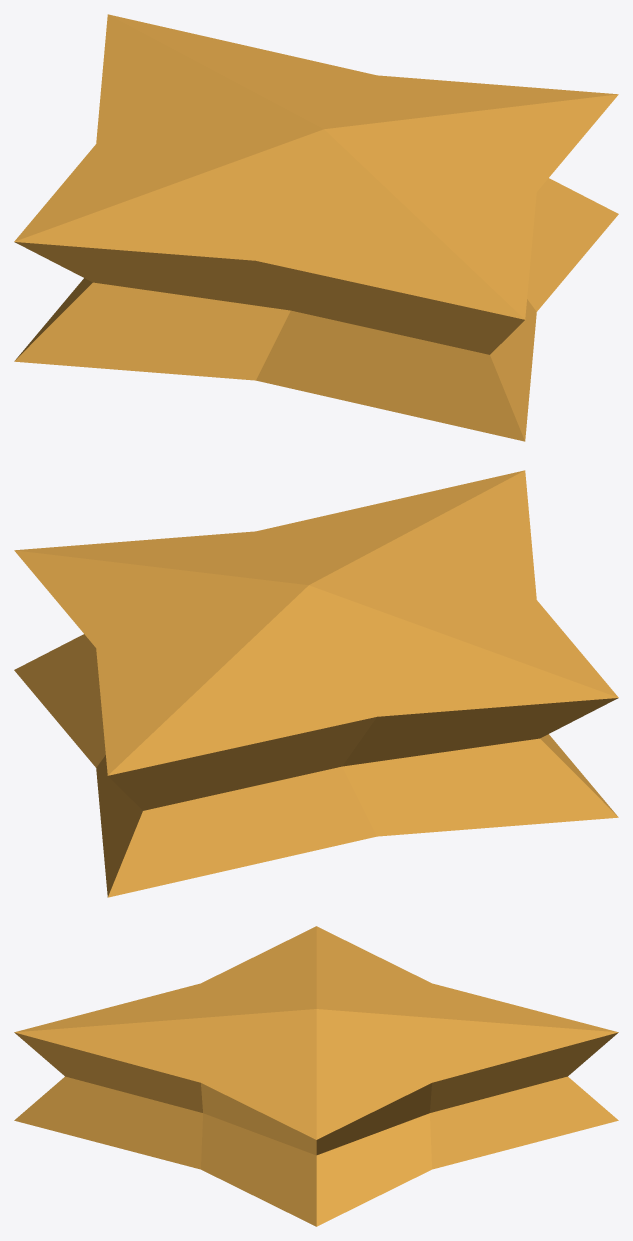
The model's file is Star.glb.
The picture shows the model from 3 angles, top to bottom: view 1: azimuth 30°, elevation 25°; view 2: azimuth 150°, elevation 25°; view 3: azimuth 270°, elevation 25°; orthographic projection. The views are drawn at different scales.
Parts seen in each view (by area): view 1: Cube; view 2: Cube; view 3: Cube.
Boxes of the visible parts, x1,y1,x2,y2 form: Cube: (14, 14, 618, 441); Cube: (14, 470, 618, 897); Cube: (14, 926, 618, 1226).
Bounding box in the file's own units: 2 × 0.6112 × 2.39.
